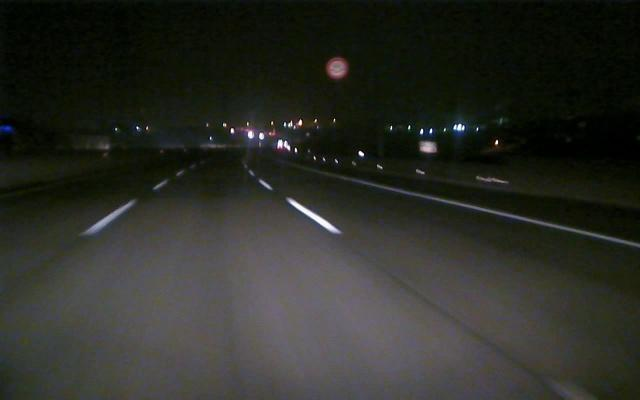lane: (341, 176, 637, 249), (79, 181, 167, 235), (258, 179, 342, 234)
